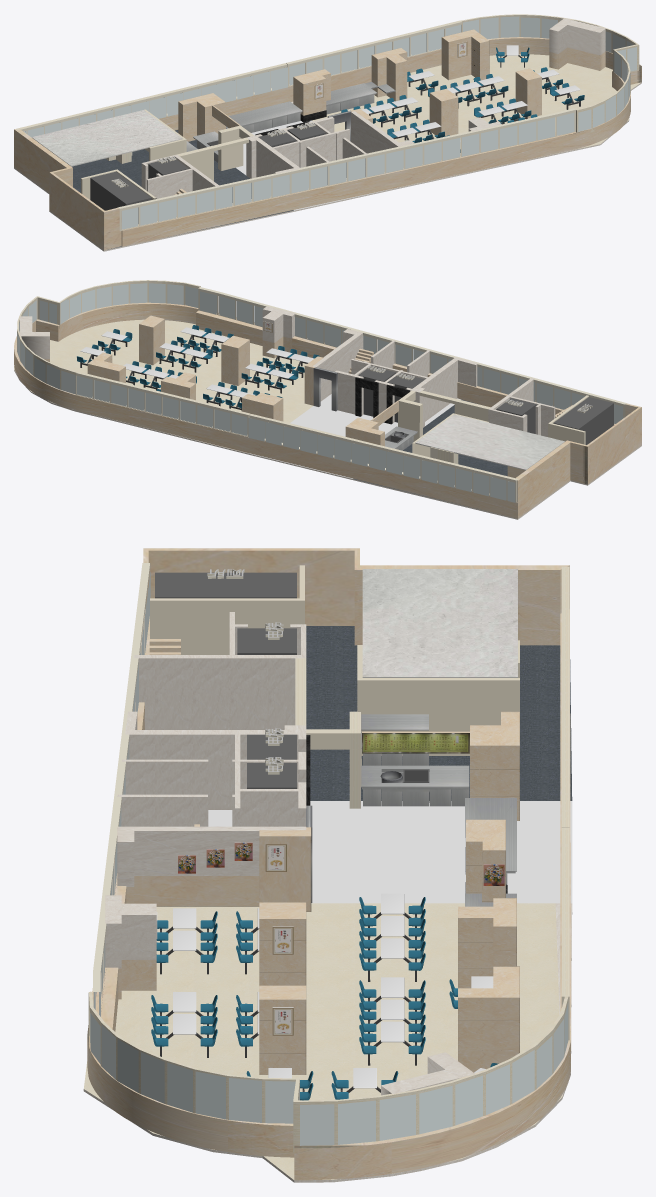
3 views of the same model, one above another, from view 1: azimuth 30°, elevation 25°; view 2: azimuth 150°, elevation 25°; view 3: azimuth 270°, elevation 25° (orthographic). The views are drawn at different scales.
Parts seen in each view (by area): view 1: Plane035, 对象025, 对象017, Plane105, Plane058, 对象001, Box393, 对象003, Plane083, 对象002, 对象010, Cylinder002 (+10 smaller); view 2: Plane035, 对象017, Plane105, 对象025, Plane058, Box393, 对象003, 对象001, Plane083, 对象002, 对象013, 对象010 (+11 smaller); view 3: Plane105, Plane058, Plane083, Plane035, 对象025, 对象003, Box393, 对象022, 对象005, 对象001, Cylinder002, Box287 (+11 smaller).
Boxes of the visible parts, bbox=[...] form: Plane035: bbox=[14, 37, 641, 250]; 对象025: bbox=[178, 18, 605, 151]; 对象017: bbox=[114, 67, 574, 229]; Plane105: bbox=[291, 54, 641, 187]; Plane058: bbox=[141, 111, 414, 198]; 对象001: bbox=[118, 20, 575, 231]; Box393: bbox=[32, 110, 182, 166]; 对象003: bbox=[463, 16, 636, 131]; Plane083: bbox=[14, 120, 402, 251]; 对象002: bbox=[289, 25, 461, 85]; 对象010: bbox=[16, 63, 287, 134]; Cylinder002: bbox=[461, 14, 639, 132]; Plane035: bbox=[14, 302, 641, 518]; 对象017: bbox=[200, 291, 623, 479]; Plane105: bbox=[14, 319, 313, 454]; 对象025: bbox=[20, 306, 384, 446]; Plane058: bbox=[312, 329, 555, 436]; Box393: bbox=[415, 414, 564, 470]; 对象003: bbox=[17, 283, 198, 394]; 对象001: bbox=[76, 287, 626, 436]; Plane083: bbox=[248, 394, 641, 519]; 对象002: bbox=[77, 376, 247, 435]; 对象013: bbox=[421, 460, 515, 502]; 对象010: bbox=[249, 414, 517, 502]; Plane105: bbox=[83, 903, 572, 1182]; Plane058: bbox=[117, 612, 306, 906]; Plane083: bbox=[208, 626, 572, 903]; Plane035: bbox=[87, 548, 570, 1180]; 对象025: bbox=[105, 711, 519, 1095]; 对象003: bbox=[90, 1003, 568, 1145]; Box393: bbox=[362, 569, 517, 677]; 对象022: bbox=[357, 645, 519, 755]; 对象005: bbox=[150, 565, 304, 654]; 对象001: bbox=[93, 563, 569, 1040]; Cylinder002: bbox=[88, 991, 568, 1152]; Box287: bbox=[155, 572, 296, 598].
Size of what is drawn, in the model's own units: 49 by 3.64 by 18.17.
